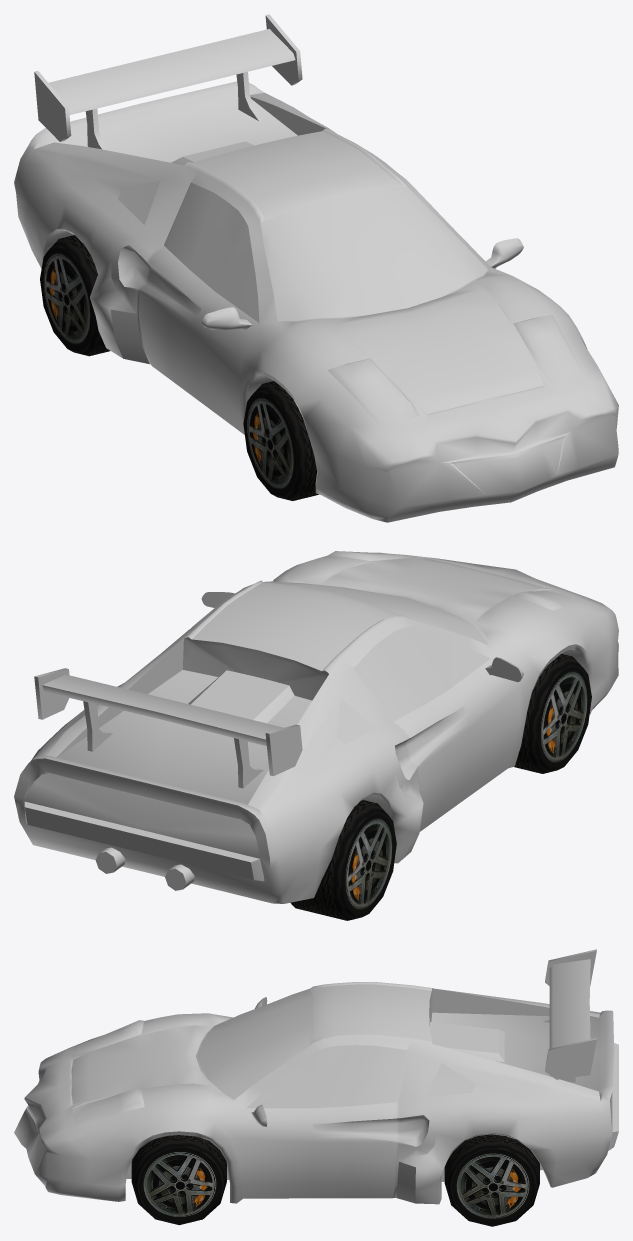
3 renders of one model, top to bottom at view 1: azimuth 30°, elevation 25°; view 2: azimuth 150°, elevation 25°; view 3: azimuth 270°, elevation 25°, orthographic. The views are drawn at different scales.
Parts seen in each view (by area): view 1: player_chassis, veh_wheel_fr, veh_wheel_b; view 2: player_chassis, veh_wheel_b, veh_wheel_fr; view 3: player_chassis, veh_wheel_b, veh_wheel_fl.
Part boxes in pixels (box(x1,y1,x2,y2)): player_chassis: box(14, 14, 618, 522); veh_wheel_fr: box(243, 381, 318, 500); veh_wheel_b: box(40, 235, 109, 356); player_chassis: box(14, 551, 618, 903); veh_wheel_b: box(290, 800, 396, 920); veh_wheel_fr: box(514, 654, 591, 773); player_chassis: box(14, 949, 618, 1204); veh_wheel_b: box(444, 1134, 539, 1226); veh_wheel_fl: box(131, 1135, 226, 1225).
Bounding box in the file's own units: 201 × 135 × 418.
